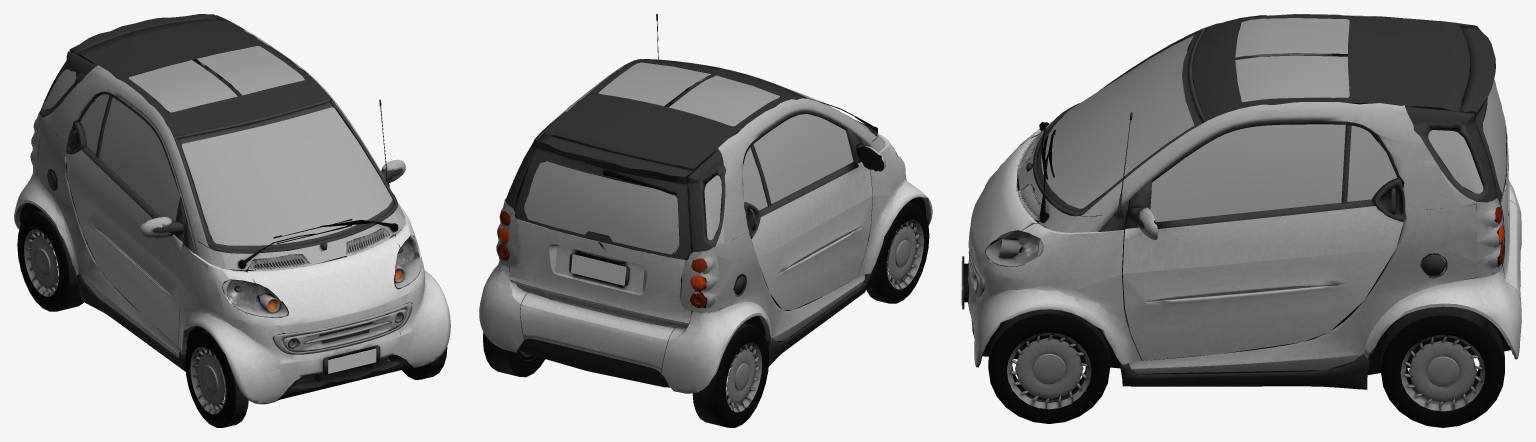
The model's file is TRAFFIC_013_LOD1.fbx.
The picture shows the model from 3 angles, left to right: view 1: azimuth 30°, elevation 25°; view 2: azimuth 150°, elevation 25°; view 3: azimuth 270°, elevation 25°; orthographic projection. The views are drawn at different scales.
Visible parts, largest first — view 1: Object004, TRAFFIC_013 Glass, TRAFFIC_013_INside, TRAFFIC_013 WRR, TRAFFIC_013 WFR, TRAFFIC_013 Signs, TRAFFIC_013 WFL; view 2: Object004, TRAFFIC_013 Glass, TRAFFIC_013 WRR, TRAFFIC_013 WFR, TRAFFIC_013 WRL, TRAFFIC_013_INside, TRAFFIC_013 Signs; view 3: Object004, TRAFFIC_013 Glass, TRAFFIC_013 WRL, TRAFFIC_013 WFL, TRAFFIC_013_INside.
Part boxes in pixels (bbox=[...]): Object004: bbox=[14, 14, 450, 404]; TRAFFIC_013 Glass: bbox=[43, 46, 392, 245]; TRAFFIC_013_INside: bbox=[19, 65, 421, 375]; TRAFFIC_013 WRR: bbox=[17, 211, 83, 311]; TRAFFIC_013 WFR: bbox=[185, 330, 248, 427]; TRAFFIC_013 Signs: bbox=[328, 348, 376, 373]; TRAFFIC_013 WFL: bbox=[402, 346, 447, 379]; Object004: bbox=[479, 59, 932, 393]; TRAFFIC_013 Glass: bbox=[509, 62, 870, 254]; TRAFFIC_013 WRR: bbox=[692, 323, 769, 427]; TRAFFIC_013 WFR: bbox=[866, 202, 929, 303]; TRAFFIC_013 WRL: bbox=[483, 332, 545, 377]; TRAFFIC_013_INside: bbox=[508, 14, 926, 382]; TRAFFIC_013 Signs: bbox=[571, 254, 626, 285]; Object004: bbox=[968, 14, 1521, 389]; TRAFFIC_013 Glass: bbox=[1041, 18, 1506, 222]; TRAFFIC_013 WRL: bbox=[1381, 306, 1504, 427]; TRAFFIC_013 WFL: bbox=[988, 309, 1109, 423]; TRAFFIC_013_INside: bbox=[962, 90, 1510, 374].
Bounding box in the file's own units: 1944 × 2916 × 1763.
